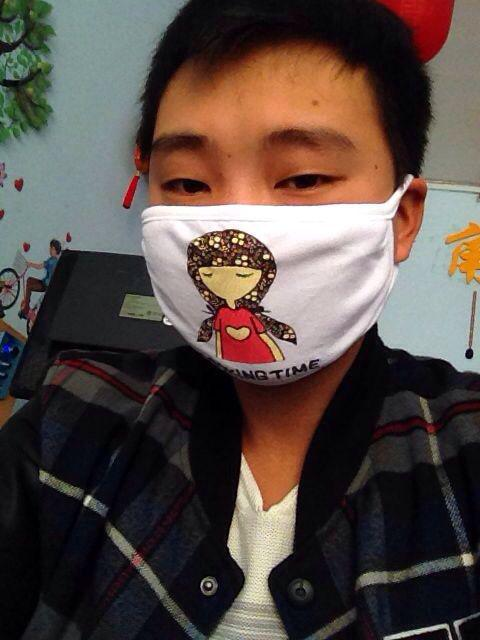OK: (141, 112, 393, 364)
